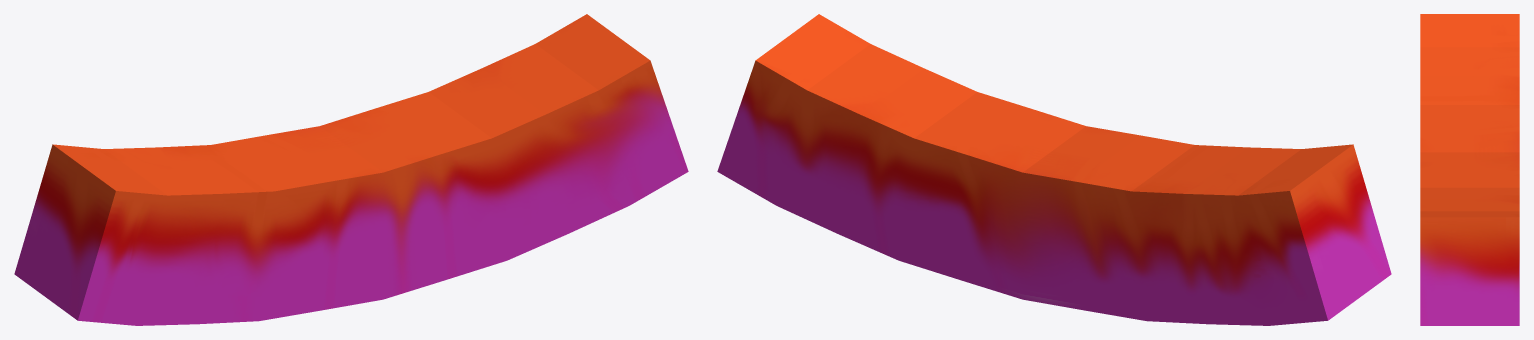
The model's file is middle1.obj.
3 renders of one model, left to right at view 1: azimuth 30°, elevation 25°; view 2: azimuth 150°, elevation 25°; view 3: azimuth 270°, elevation 25°, orthographic. The views are drawn at different scales.
Parts seen in each view (by area): view 1: middle.001; view 2: middle.001; view 3: middle.001.
Boxes of the visible parts, left/top/right/bottom form: middle.001: left=14, top=14, right=688, bottom=325; middle.001: left=717, top=14, right=1391, bottom=325; middle.001: left=1420, top=14, right=1519, bottom=325.
Bounding box in the file's own units: 3.35 × 0.9125 × 0.6036.
